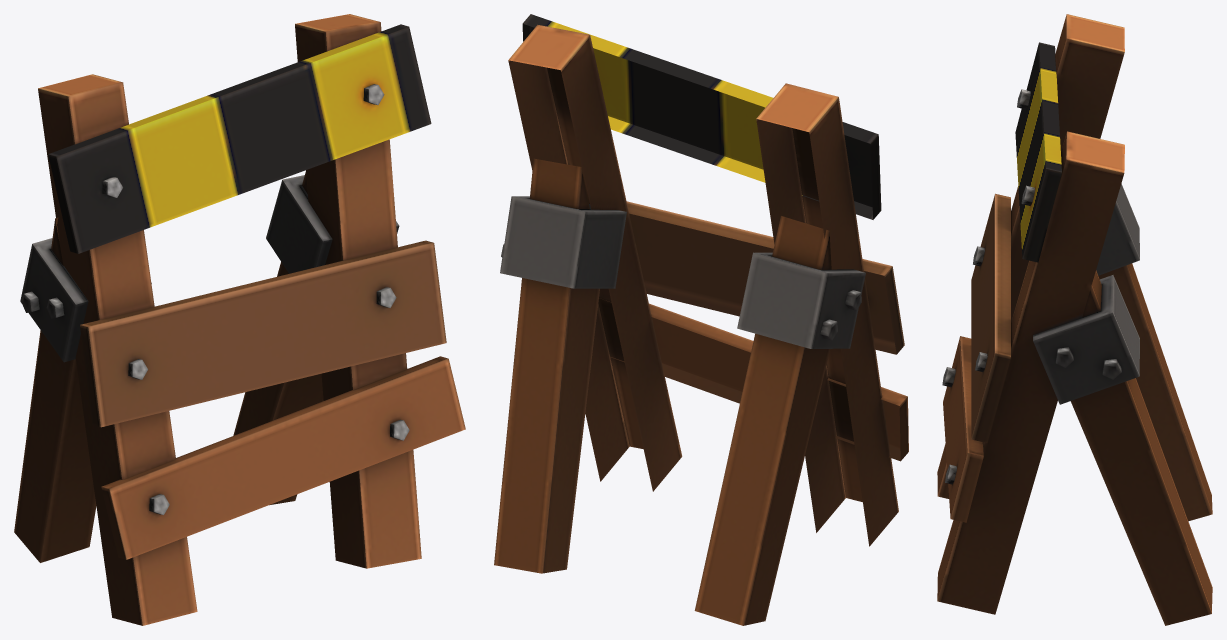
The model's file is fence.fbx.
3 views of the same model, side by side, from view 1: azimuth 30°, elevation 25°; view 2: azimuth 150°, elevation 25°; view 3: azimuth 270°, elevation 25° (orthographic). The views are drawn at different scales.
Parts seen in each view (by area): view 1: fence; view 2: fence; view 3: fence.
Boxes of the visible parts, x1,y1,x2,y2 form: fence: (14, 14, 465, 625); fence: (494, 14, 908, 625); fence: (937, 14, 1212, 625).
Size of the model in its own units: 98.64 by 132 by 67.83.
